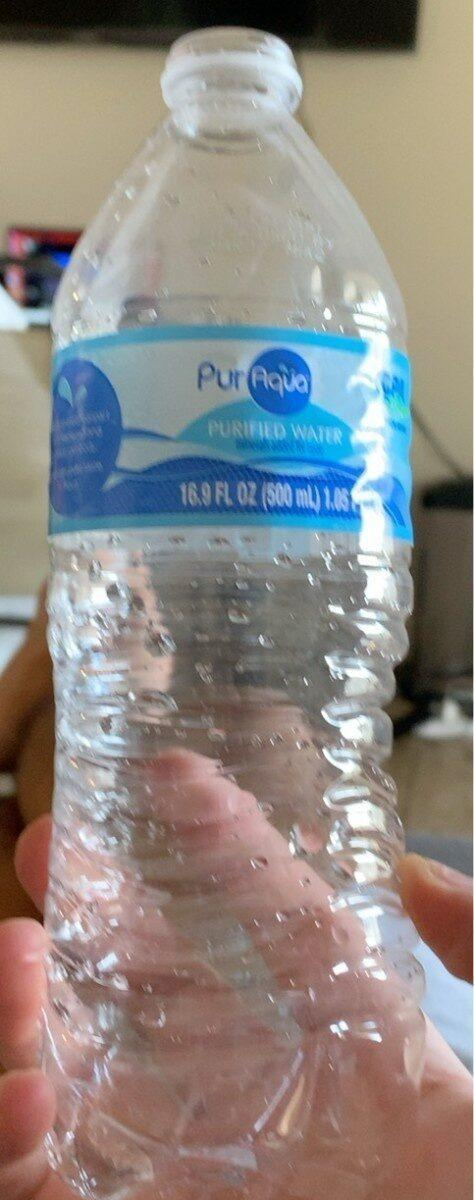bottle: (18, 18, 474, 1200)
